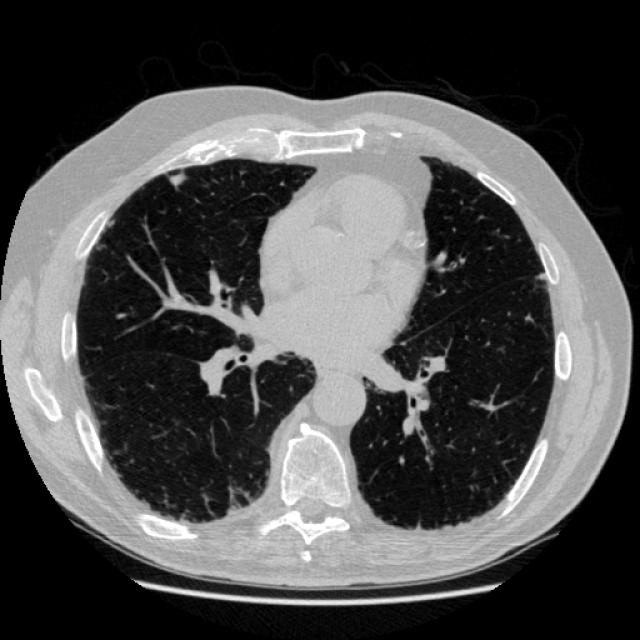nodule: (159, 161, 191, 194)
